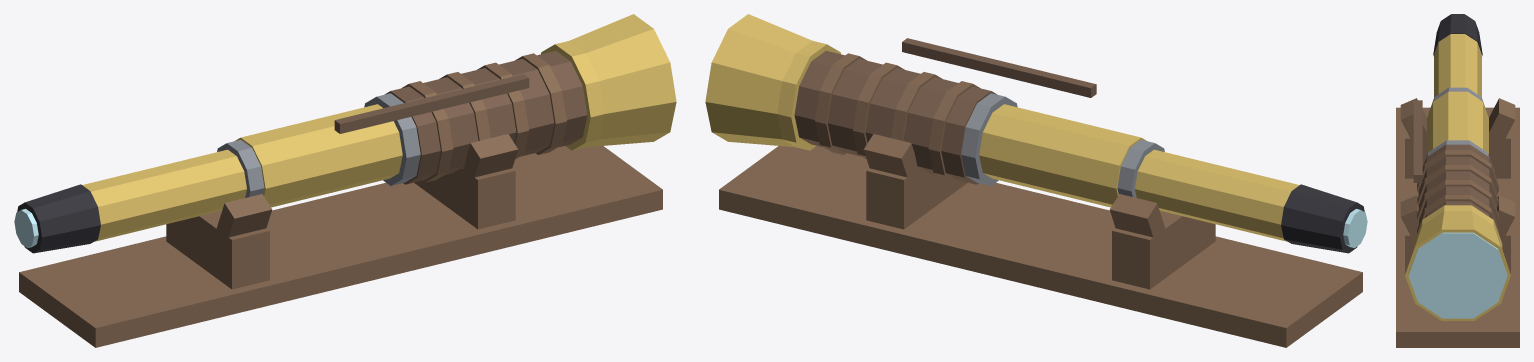
File: Item_Spyglass.glb
3 renders of one model, left to right at view 1: azimuth 30°, elevation 25°; view 2: azimuth 150°, elevation 25°; view 3: azimuth 270°, elevation 25°, orthographic. The views are drawn at different scales.
Visible parts, largest first — view 1: Spyglass; view 2: Spyglass; view 3: Spyglass.
Part boxes in pixels (x1=…): Spyglass: x1=14, y1=14, x2=676, y2=347; Spyglass: x1=705, y1=14, x2=1367, y2=347; Spyglass: x1=1396, y1=14, x2=1519, y2=347.
Size of the model in its own units: 0.657 by 0.1571 by 0.14.
